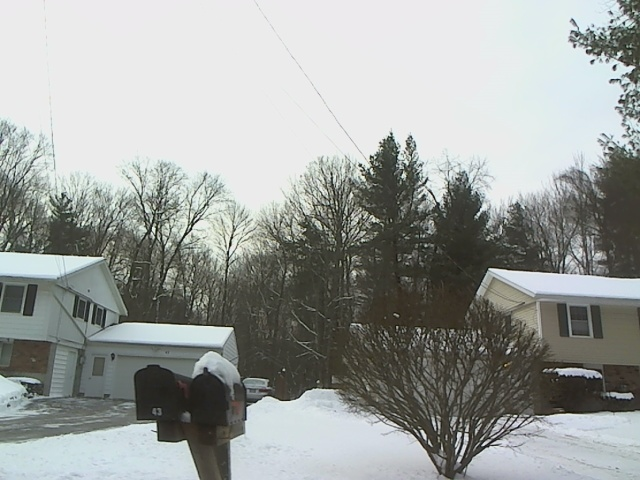Ploughed: (11, 395, 134, 434)
